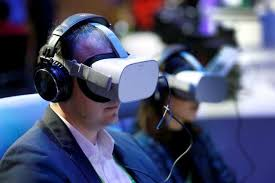oculus: (61, 56, 161, 105)
